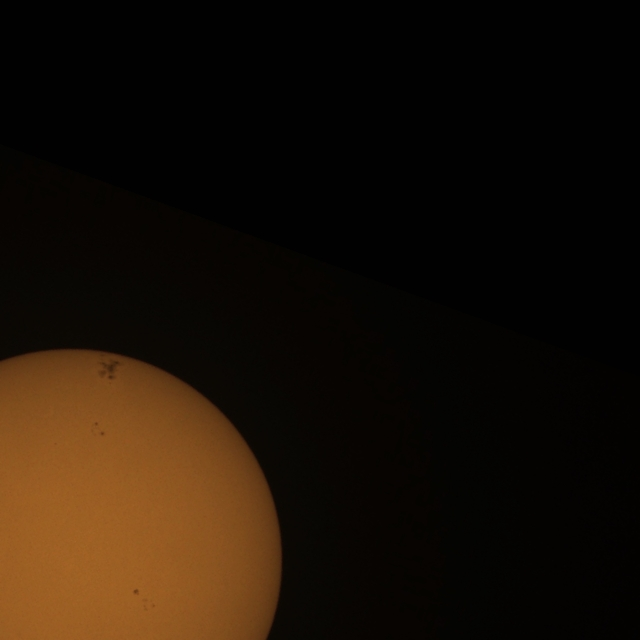sunspot: (96, 356, 120, 382), (133, 588, 156, 612), (140, 597, 156, 612), (91, 421, 106, 437), (132, 588, 139, 595)
